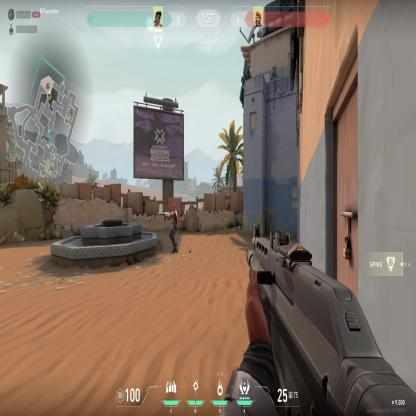enemy: (168, 203, 179, 256)
